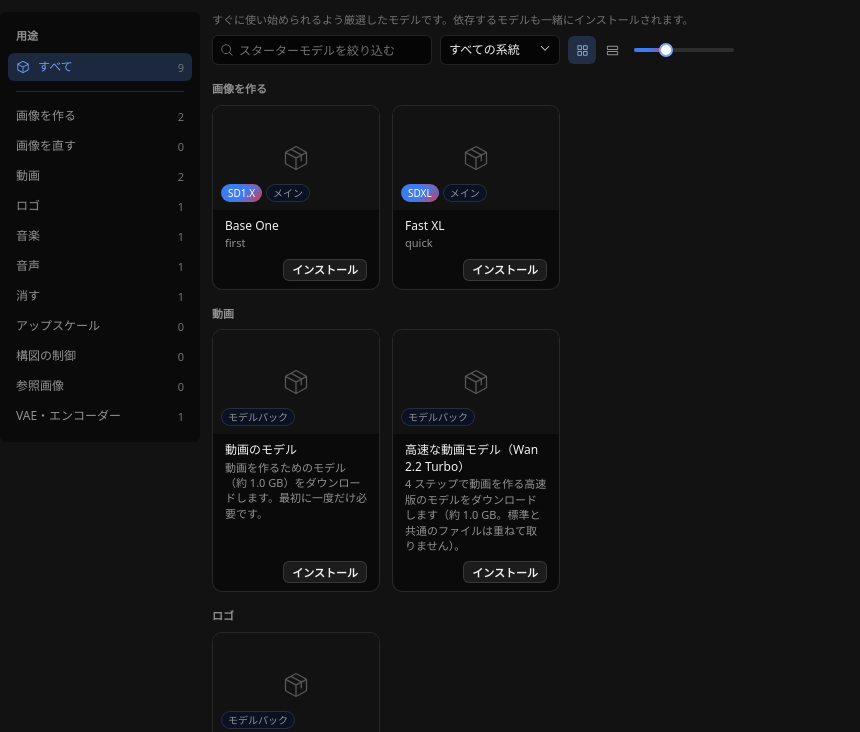
Test: InstallStarter › searches by name, description, base and type, and says when nothing matches
The width and height of the screenshot is (860, 732).
Type "quick" into the field labelled "スターターモデルを絞り込む". click: point(322, 50)
box: [212,35,432,65]
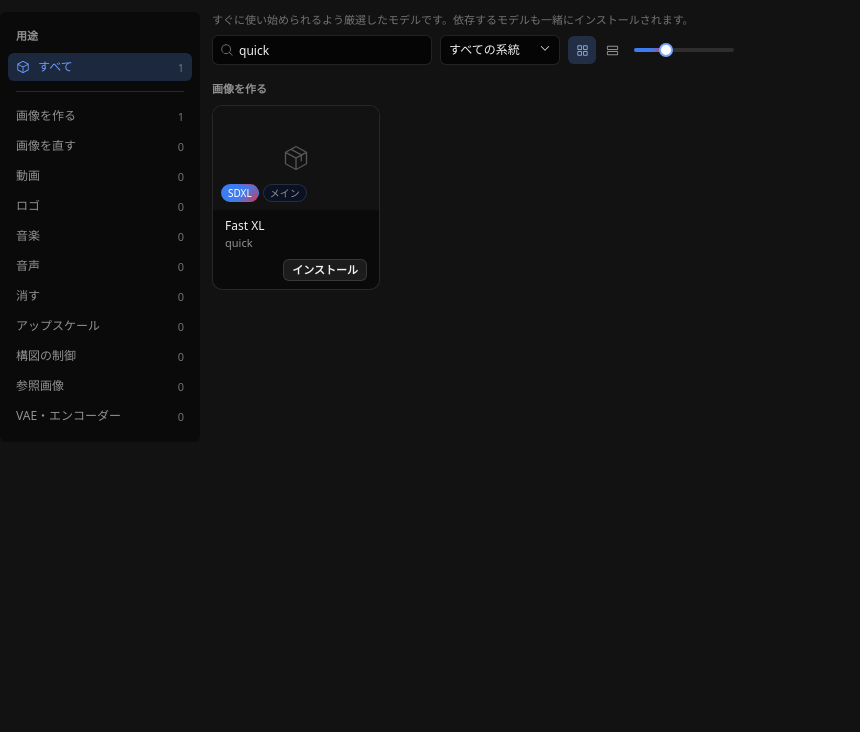
Expected: the number of elements with test id "mm-starter" is 1, [212,105,380,290]
Replace the text in the field named "スターターモデルを絞り込む" with "vae". click: point(322, 50)
box: [212,35,432,65]
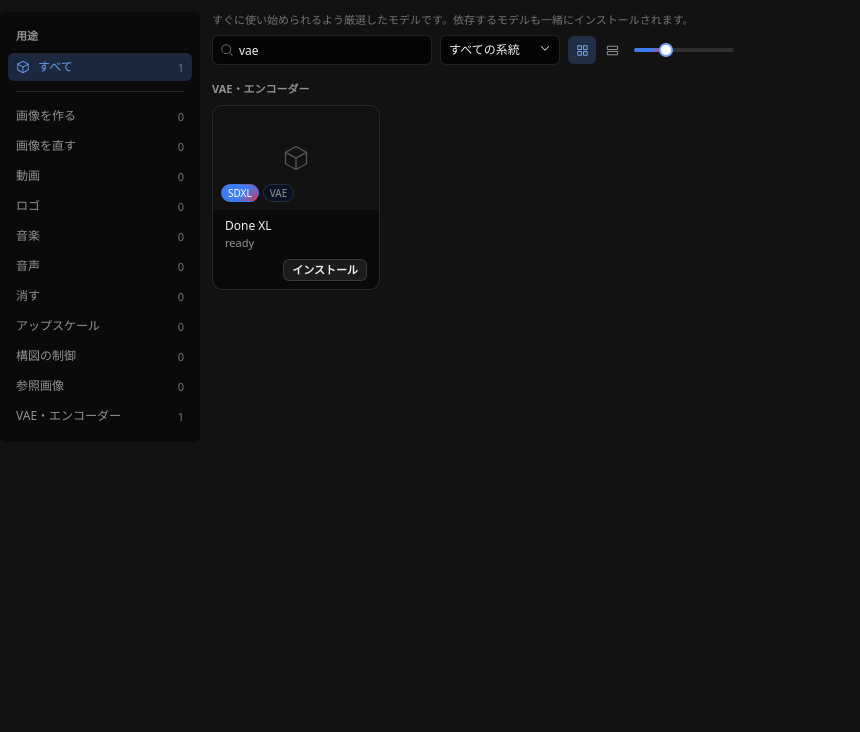
Expected: the number of elements with test id "mm-starter" is 1, [212,105,380,290]
Replace the text in the field named "スターターモデルを絞り込む" with "zzz". click: point(322, 50)
box: [212,35,432,65]
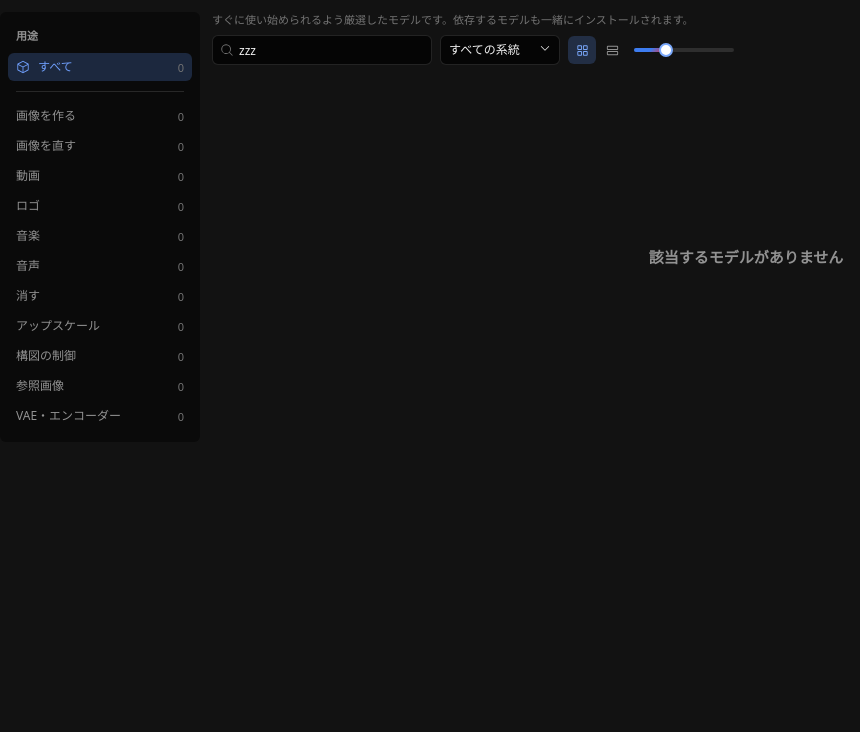
Expected: the text "該当するモデルがありません" is shown, [649,247,843,268]
